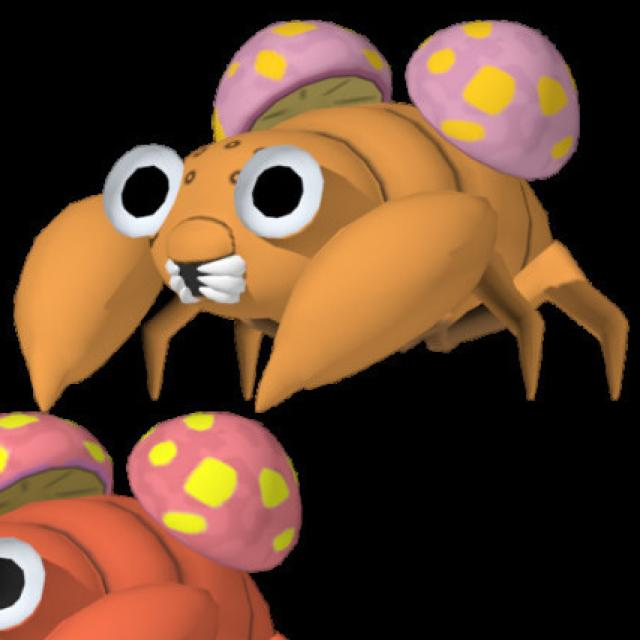Paras: (16, 8, 585, 403)
